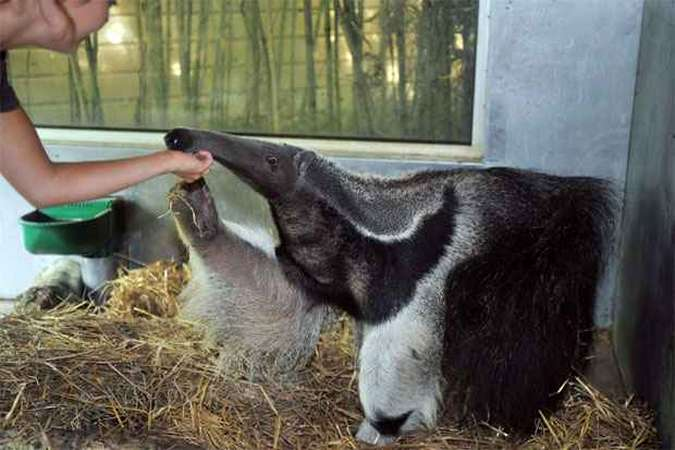TamanduaBandeira: (151, 123, 623, 434)
